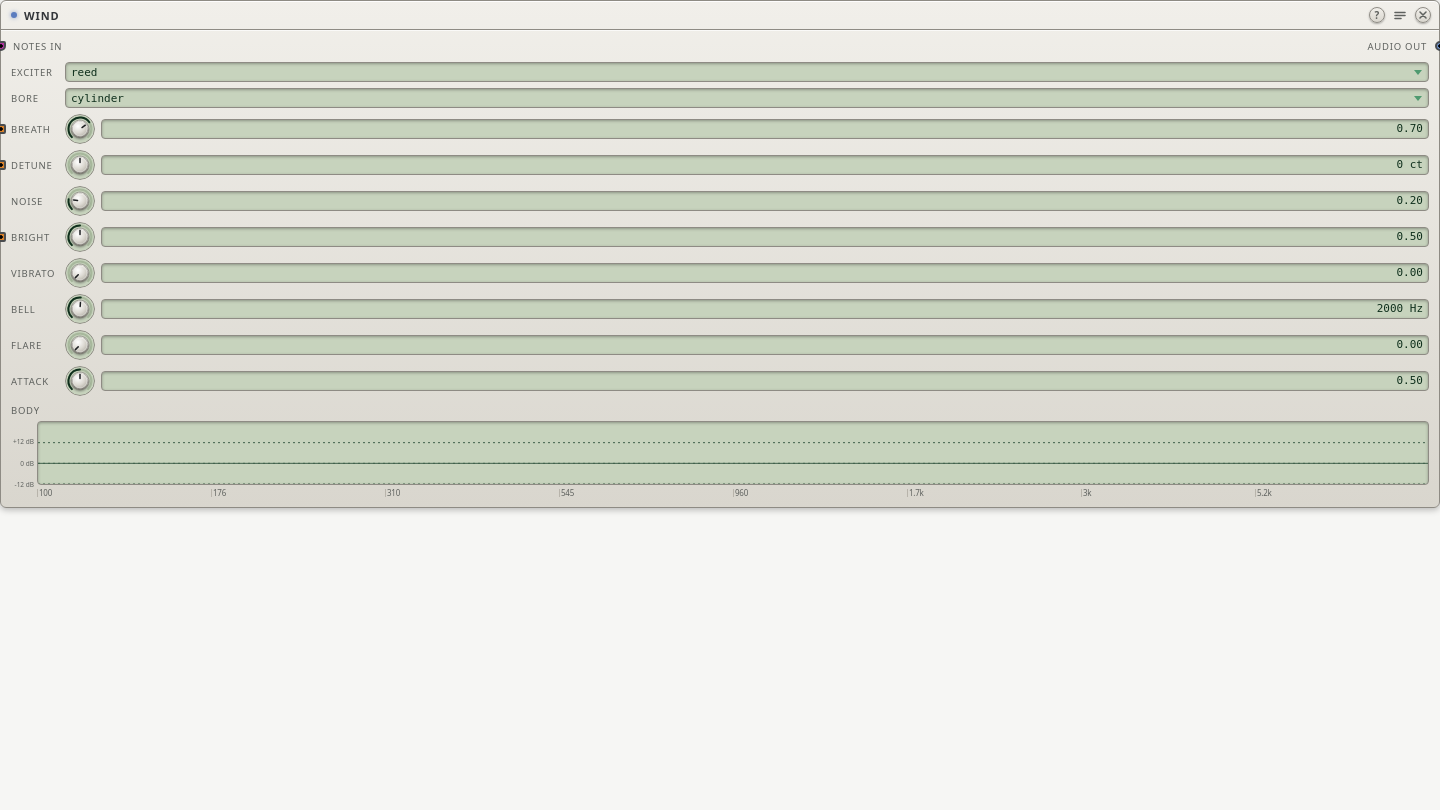
PresetMenu › built in › says there are none of your own yet when only the built-in ones are there
The image size is (1440, 810).
Click the button named "Presets of Wind". click: (1400, 15)
box: [1392,7,1408,23]
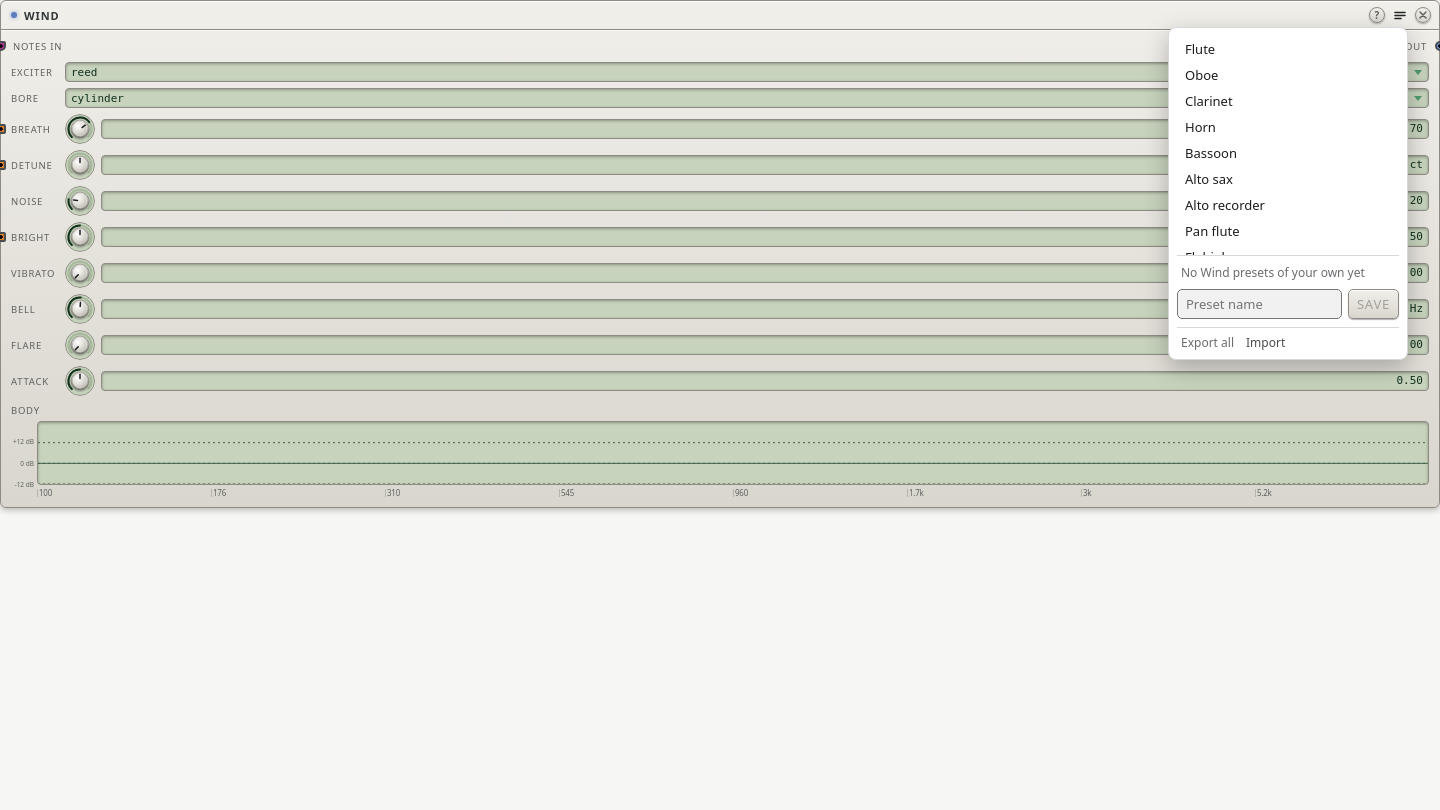
Check: the text "No Wind presets of your own yet" is shown, box [1181,264,1365,281]
